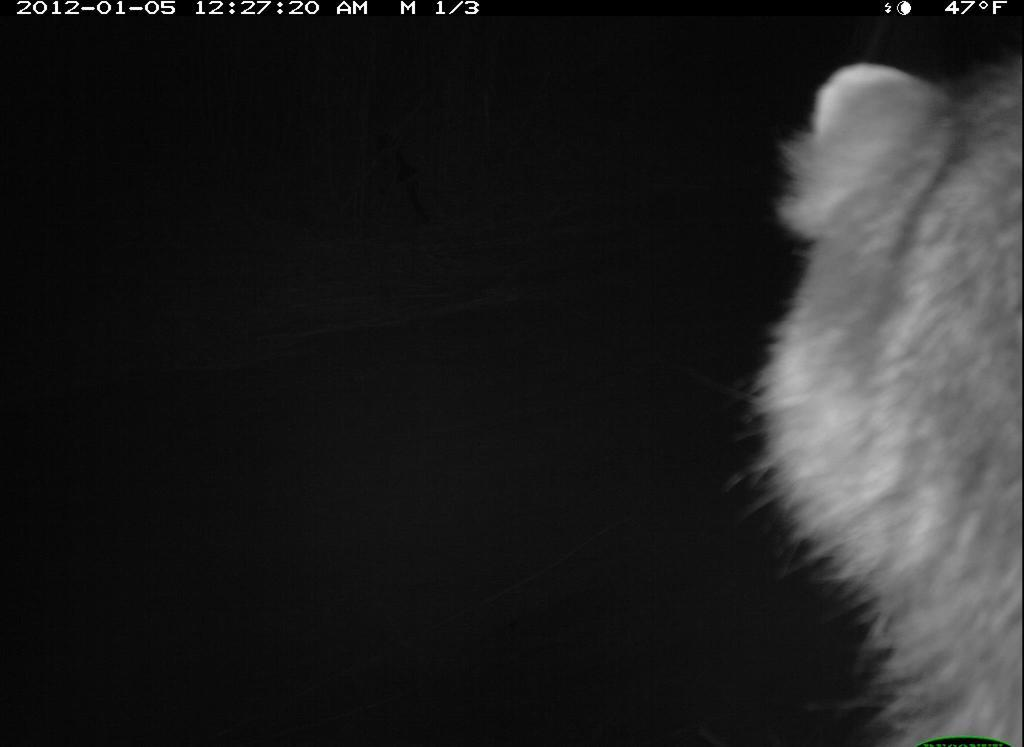raccoon: (744, 33, 1023, 747)
